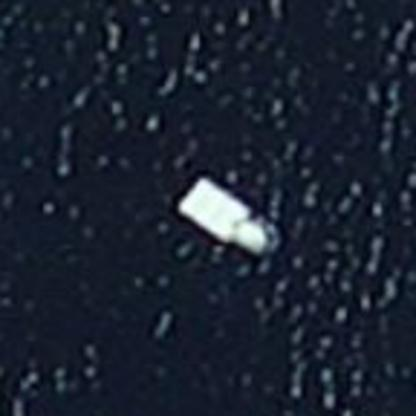ship: (166, 164, 284, 266)
